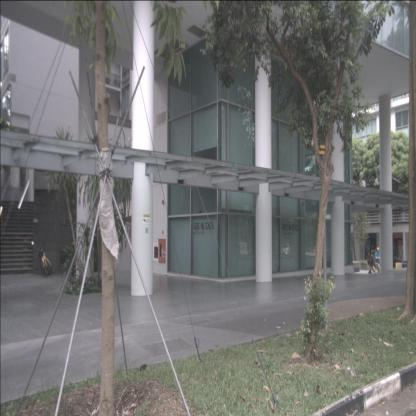human-pedestrian-adult: (369, 251, 376, 279), (375, 247, 381, 276)
vehicle-bicycle: (38, 241, 52, 278)
vehicle-car: (281, 244, 291, 256)
